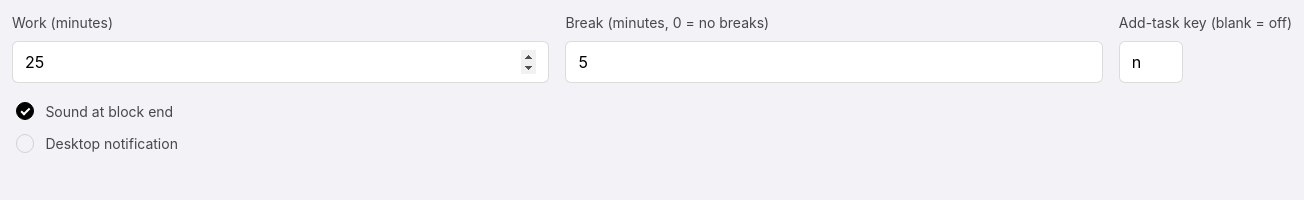
Scenario: the block-end alerts › reverts the toggle and stores nothing when permission is refused
Click the checkbox with id "alert-notify" at (25, 144), box [16,134,34,153]
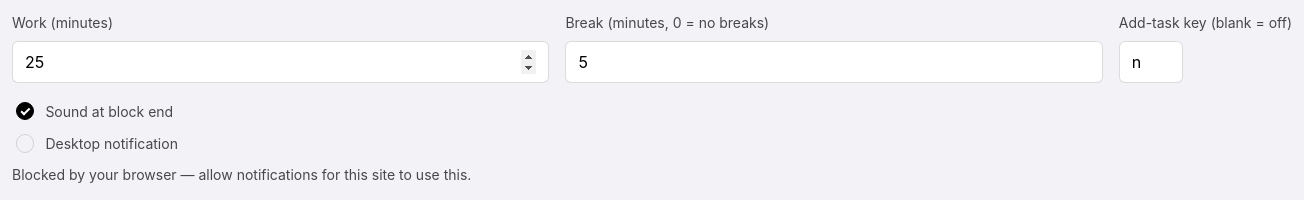
Now the text "Blocked by your browser" is shown, box [12,166,471,183]
